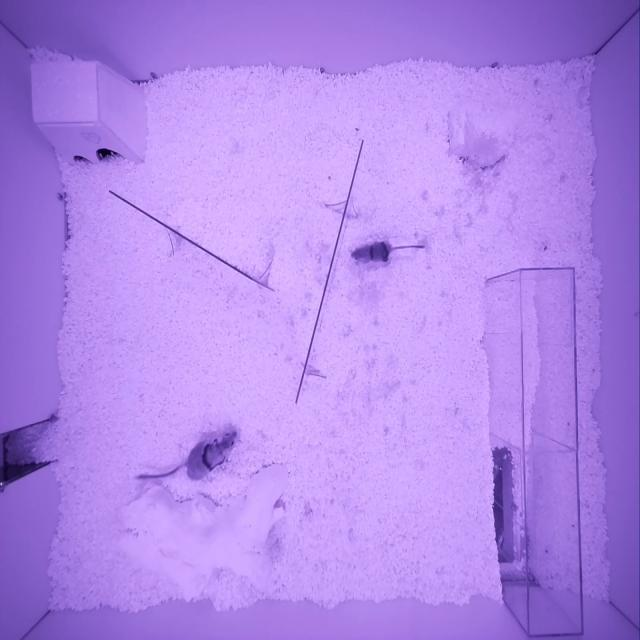adult_front: (186, 431, 238, 481)
pup_h_stripe: (351, 241, 393, 263)
